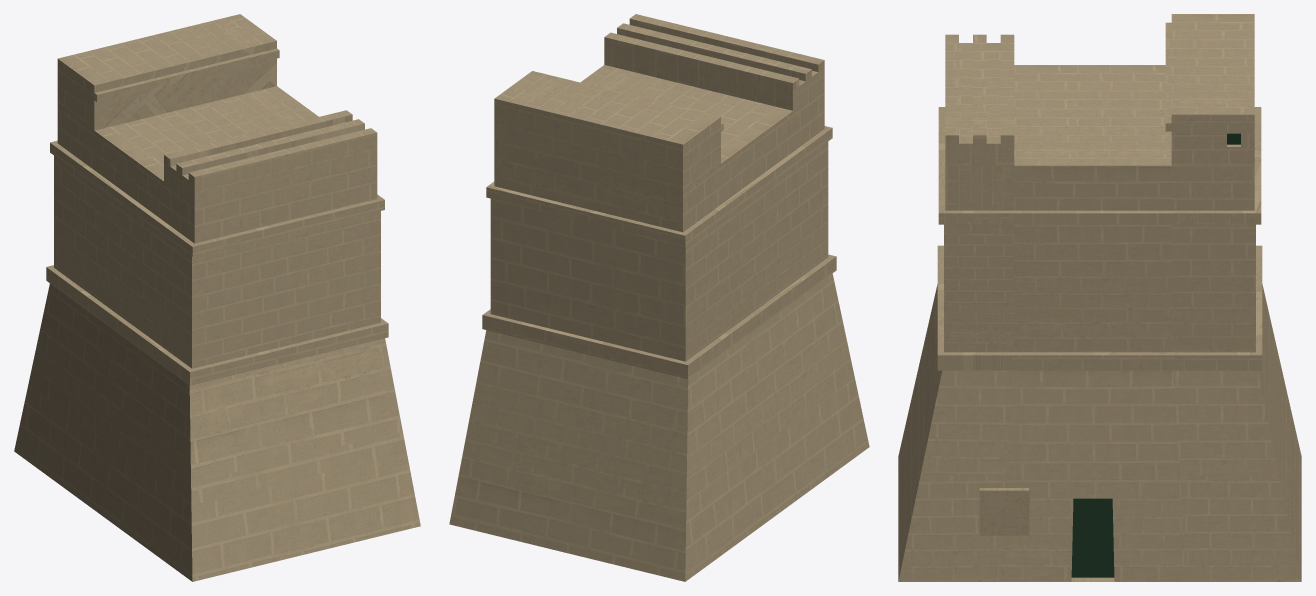
The model's file is Xutu_Tower.glb.
3 renders of one model, left to right at view 1: azimuth 30°, elevation 25°; view 2: azimuth 150°, elevation 25°; view 3: azimuth 270°, elevation 25°, orthographic. The views are drawn at different scales.
Parts seen in each view (by area): view 1: Cube; view 2: Cube; view 3: Cube, Plane.
Part boxes in pixels (box(x1,y1,x2,y2)): Cube: box(14, 14, 420, 581); Cube: box(449, 14, 869, 581); Cube: box(898, 14, 1301, 581); Plane: box(979, 488, 1029, 535).
Size of the model in its own units: 3 by 5.05 by 4.06.
Materials: 3 (2 with a texture image).
